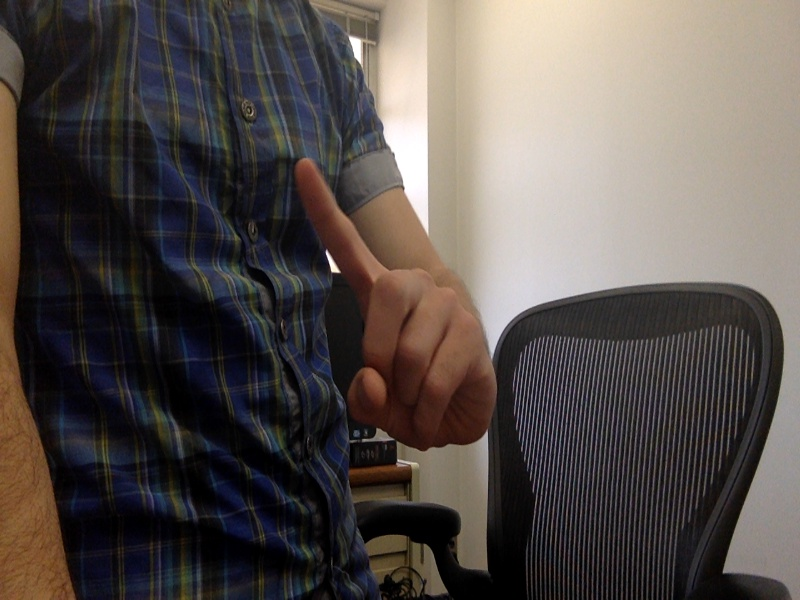1-hand: (292, 157, 512, 450)
